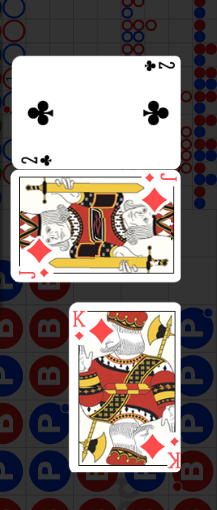2C: (142, 59, 176, 73)
KD: (71, 309, 85, 342)
